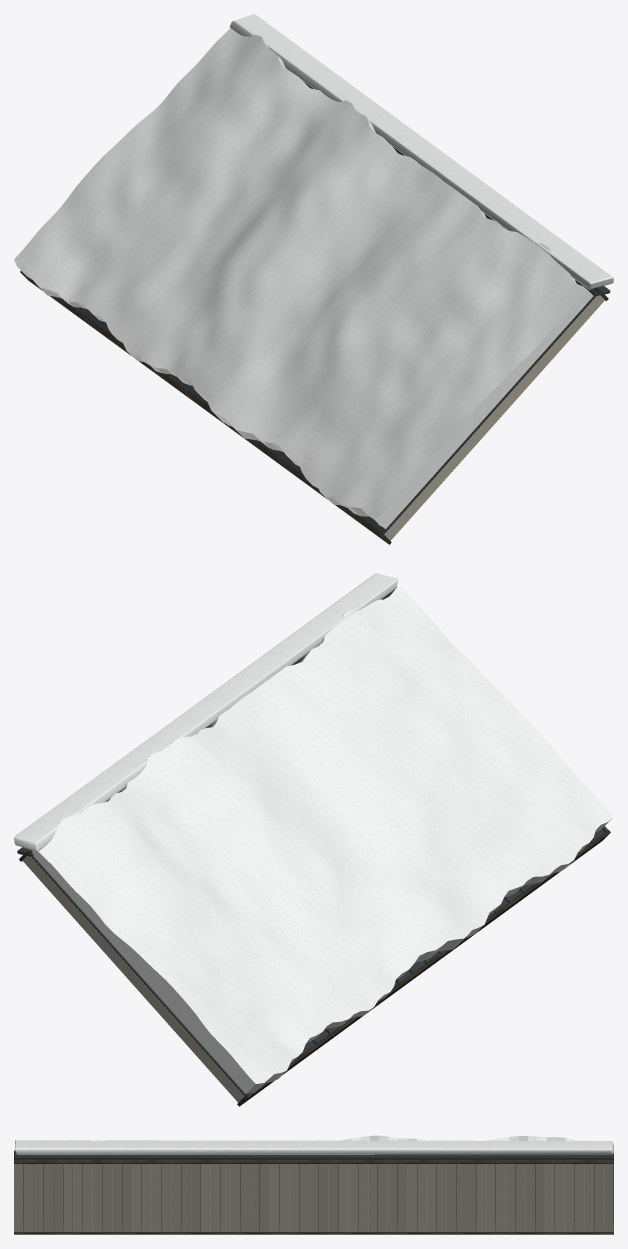
3 views of the same model, one above another, from view 1: azimuth 30°, elevation 25°; view 2: azimuth 150°, elevation 25°; view 3: azimuth 270°, elevation 25° (orthographic). The views are drawn at different scales.
Parts seen in each view (by area): view 1: Mesh_snow, Mesh_warm, Mesh_dark, Mesh_iron; view 2: Mesh_snow, Mesh_warm, Mesh_dark, Mesh_iron; view 3: Mesh_warm, Mesh_snow, Mesh_dark, Mesh_iron.
Part boxes in pixels (x1,y1,x2,y2): Mesh_snow: (14,14,613,528); Mesh_warm: (384,295,604,540); Mesh_dark: (20,271,608,544); Mesh_iron: (63,82,610,534); Mesh_snow: (14,573,613,1093); Mesh_warm: (22,855,244,1102); Mesh_dark: (19,830,610,1106); Mesh_iron: (17,590,607,1095); Mesh_warm: (14,1164,613,1231); Mesh_snow: (15,1135,613,1154); Mesh_dark: (14,1150,613,1234); Mesh_iron: (14,1153,613,1222).
Bounding box in the file's own units: 4.77 × 3.99 × 12.1.
Materials: 4 (3 with a texture image).
